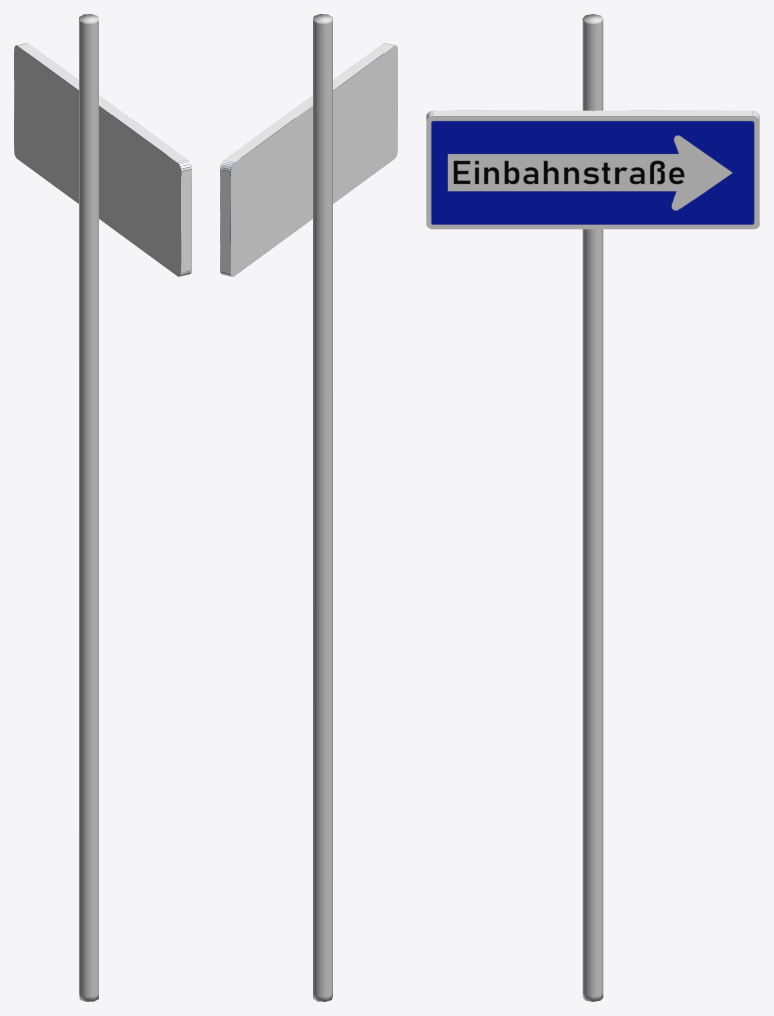
Rendered from sign_one_way_right.glb.
The picture shows the model from 3 angles, left to right: view 1: azimuth 30°, elevation 25°; view 2: azimuth 150°, elevation 25°; view 3: azimuth 270°, elevation 25°; orthographic projection.
Parts seen in each view (by area): view 1: pole, oneway_right; view 2: pole, oneway_right; view 3: oneway_right, pole.
Boxes of the visible parts, bbox=[...] form: pole: bbox=[79, 14, 98, 1001]; oneway_right: bbox=[14, 43, 191, 276]; pole: bbox=[313, 14, 332, 1001]; oneway_right: bbox=[220, 43, 397, 276]; oneway_right: bbox=[426, 110, 759, 229]; pole: bbox=[582, 14, 603, 1001].
Bounding box in the file's own units: 0.0785 × 2.59 × 0.8.
2 materials, 1 textured.
